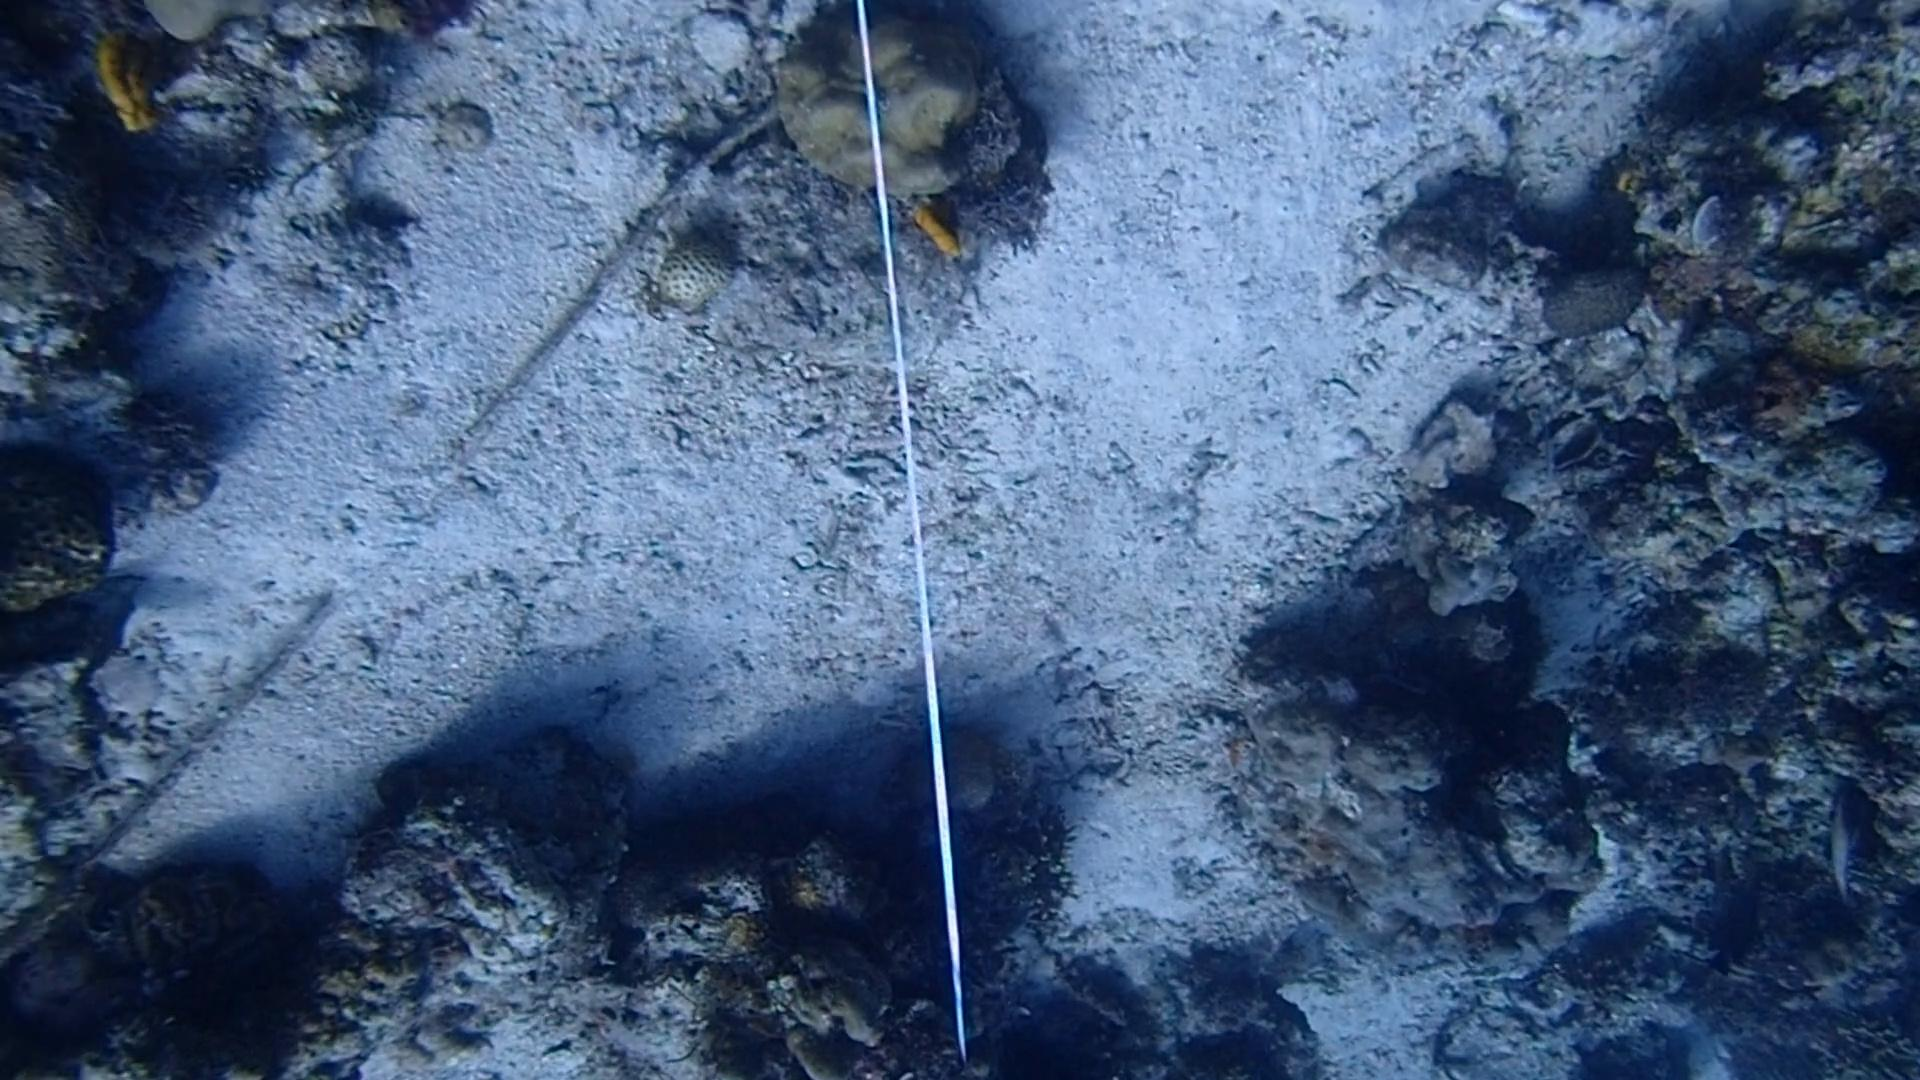Dark Fish: (1700, 872, 1770, 993)
